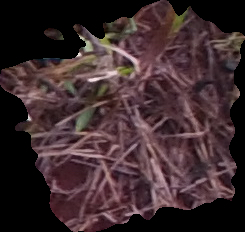soil: (2, 2, 243, 230)
